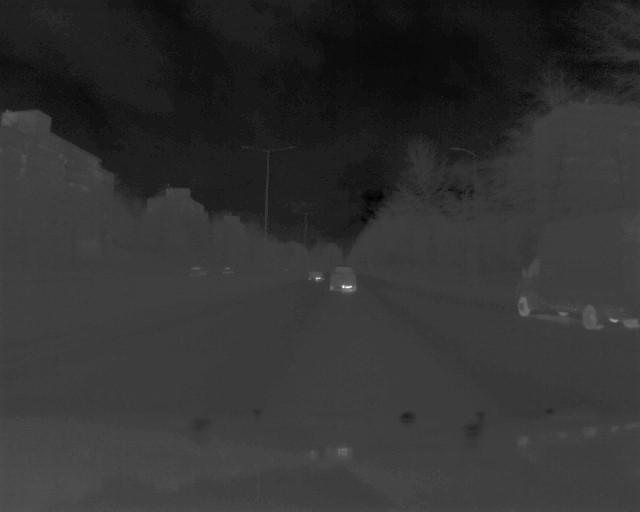car: (325, 262, 357, 292), (308, 267, 323, 287), (188, 265, 210, 278), (220, 263, 235, 278)
